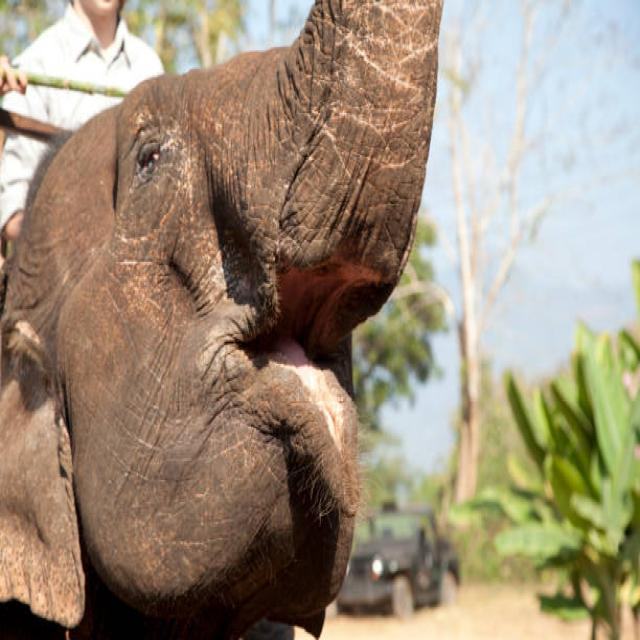Elephant: (2, 0, 450, 637)
